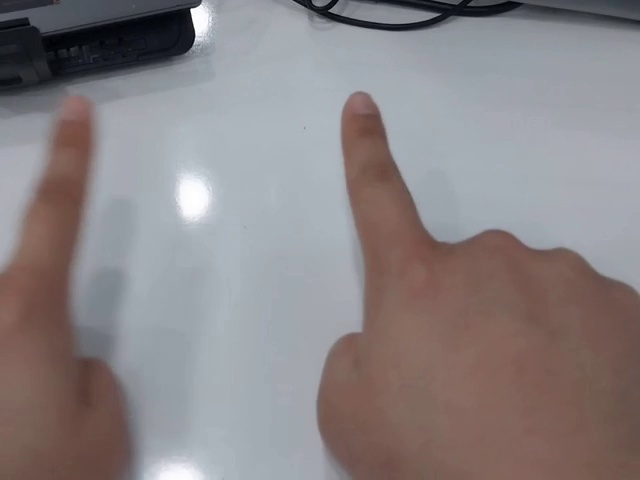fingers: (48, 94, 98, 151), (339, 89, 388, 140)
